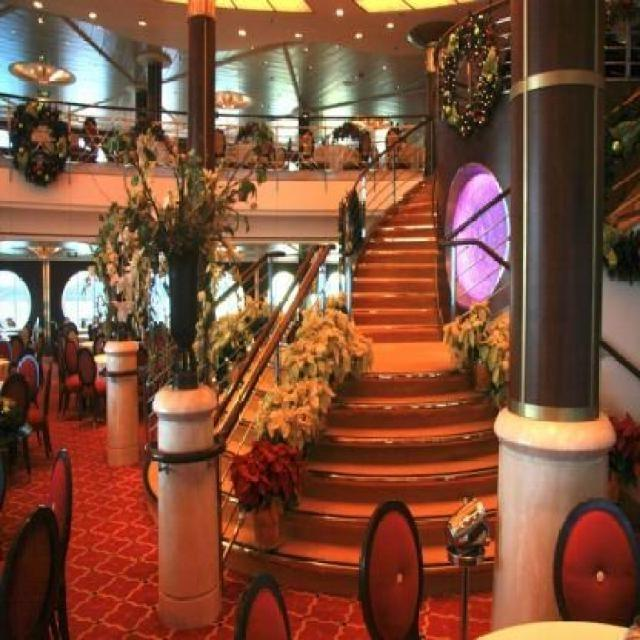stair: (142, 336, 500, 598), (344, 168, 448, 342)
